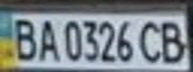0: (60, 16, 81, 63)
2: (97, 17, 118, 63)
3: (78, 17, 100, 63)
6: (115, 17, 139, 64)
A: (33, 16, 60, 62)
B: (154, 17, 190, 65), (6, 15, 39, 62)
C: (136, 17, 169, 64)
